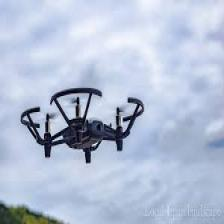drone: (19, 86, 145, 164)
